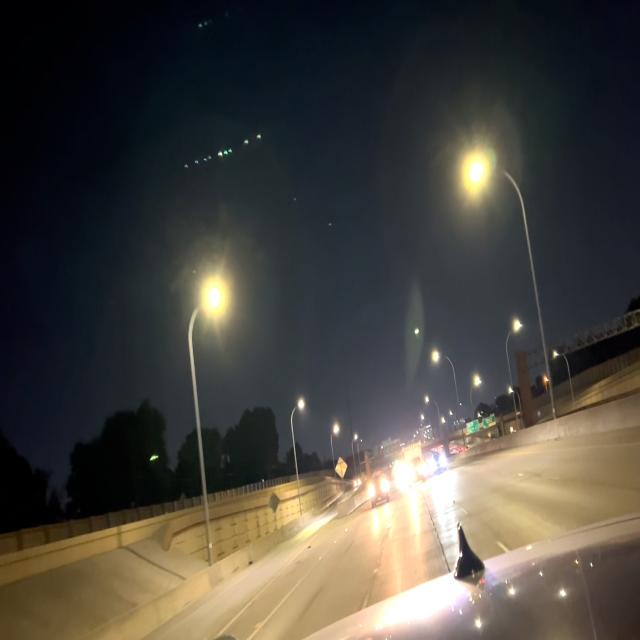back-of-sign: (334, 455, 349, 483)
